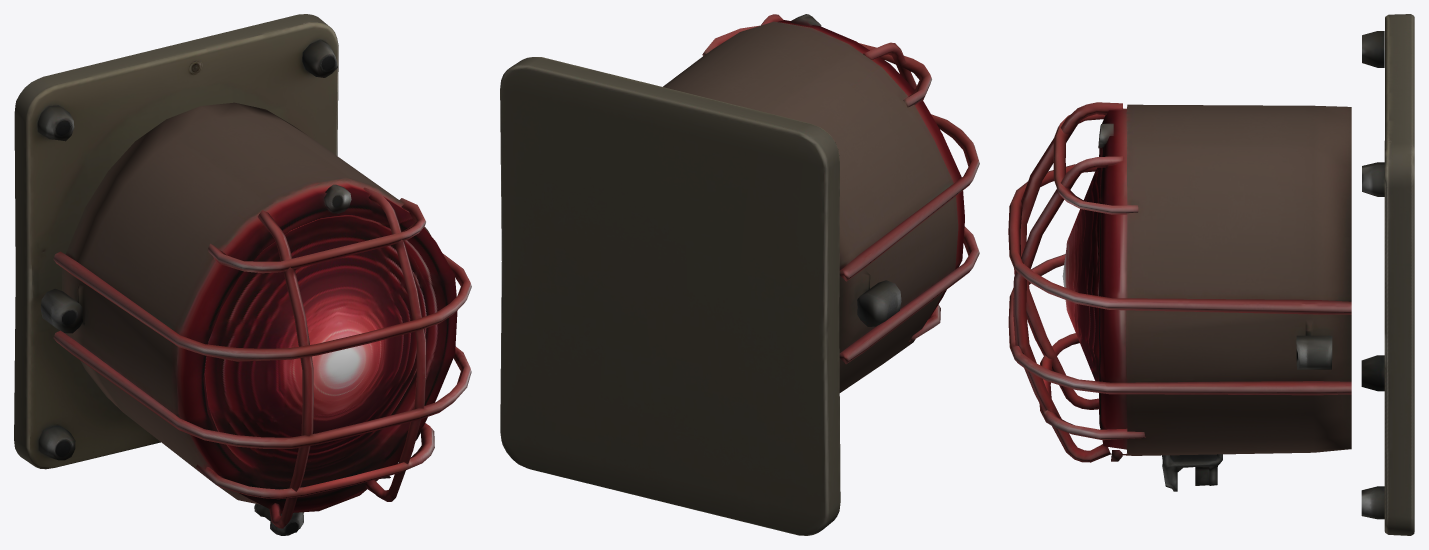
File: Red Wall light.glb
3 views of the same model, side by side, from view 1: azimuth 30°, elevation 25°; view 2: azimuth 150°, elevation 25°; view 3: azimuth 270°, elevation 25° (orthographic). The views are drawn at different scales.
Parts seen in each view (by area): view 1: tripo_15638152_5d82_4929_996e_53db8513766f; view 2: tripo_15638152_5d82_4929_996e_53db8513766f; view 3: tripo_15638152_5d82_4929_996e_53db8513766f.
Boxes of the visible parts, box(x1,y1,x2,y2) form: tripo_15638152_5d82_4929_996e_53db8513766f: box(14, 14, 471, 535); tripo_15638152_5d82_4929_996e_53db8513766f: box(500, 14, 979, 535); tripo_15638152_5d82_4929_996e_53db8513766f: box(1008, 14, 1414, 535).
Size of the model in its own units: 0.8853 by 0.9995 by 0.8979.
1 material, 1 textured.
